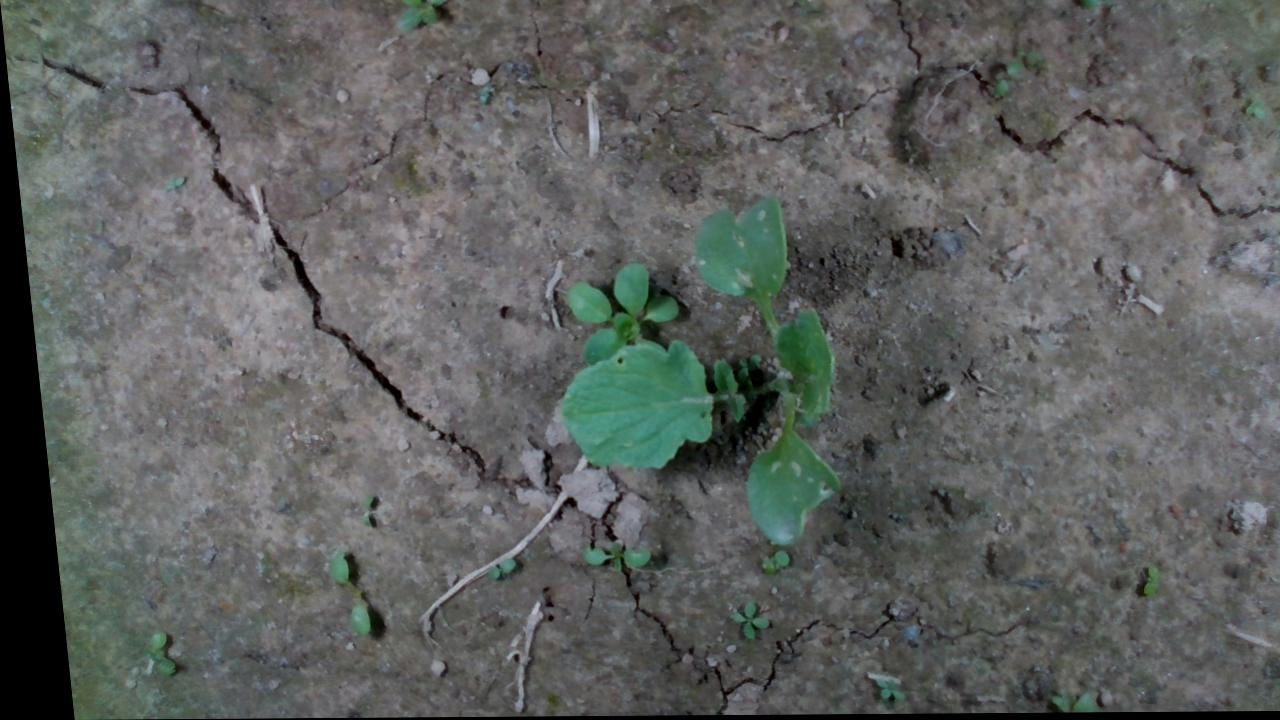weed: (313, 547, 357, 638), (568, 539, 640, 570), (714, 599, 758, 640), (126, 628, 162, 675), (987, 60, 1018, 97), (471, 555, 506, 582), (744, 548, 779, 574), (726, 352, 755, 382), (859, 676, 890, 702), (1126, 563, 1149, 598), (1238, 96, 1265, 122), (349, 491, 367, 529)
